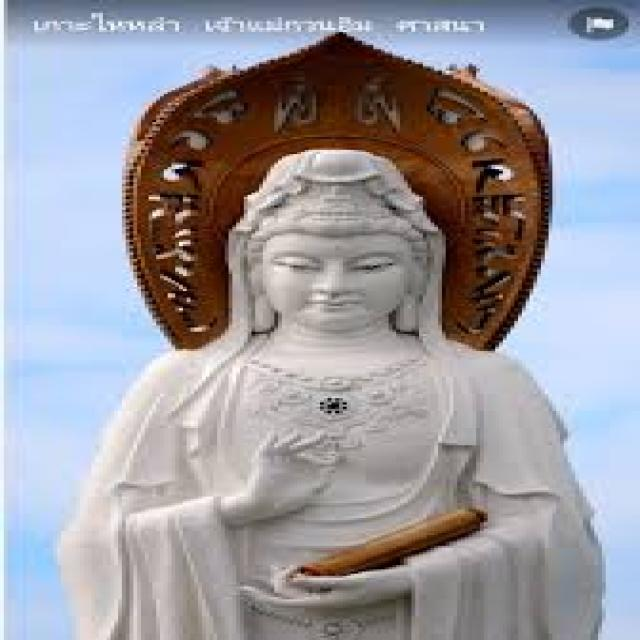Guan Yin: (113, 148, 547, 554)
